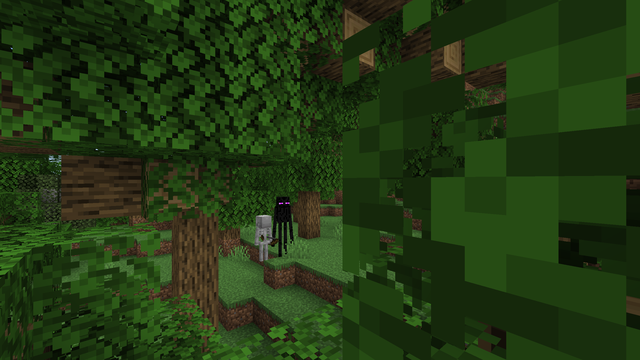endermens: (274, 194, 291, 258)
squelettes: (254, 214, 272, 262)
